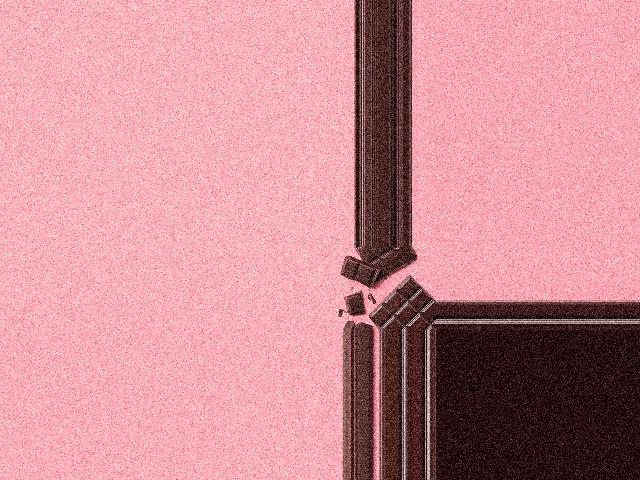chocolate: (346, 251, 437, 329)
